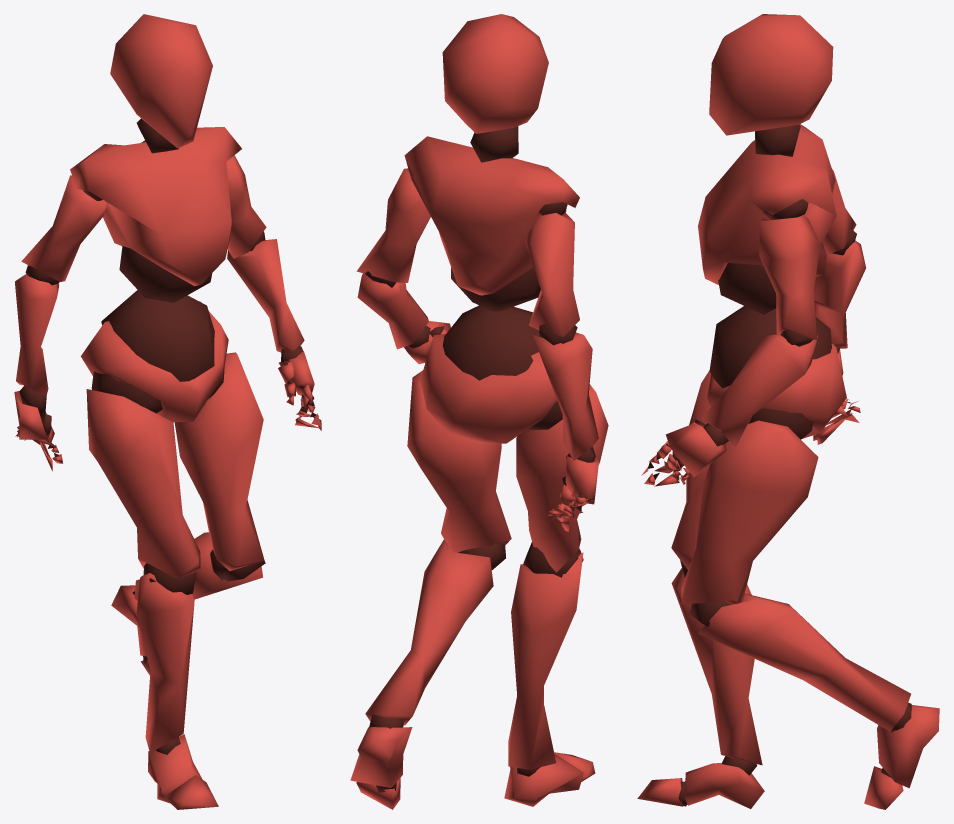
The picture shows the model from 3 angles, left to right: view 1: azimuth 30°, elevation 25°; view 2: azimuth 150°, elevation 25°; view 3: azimuth 270°, elevation 25°; orthographic projection. The views are drawn at different scales.
Visible parts, largest first — view 1: Beta_Surface; view 2: Beta_Surface; view 3: Beta_Surface.
Part boxes in pixels (<box>): Beta_Surface: <box>14,14,321,809</box>; Beta_Surface: <box>350,14,608,809</box>; Beta_Surface: <box>637,14,939,809</box>.
Size of the model in its own units: 4.79 by 14.41 by 4.96.
